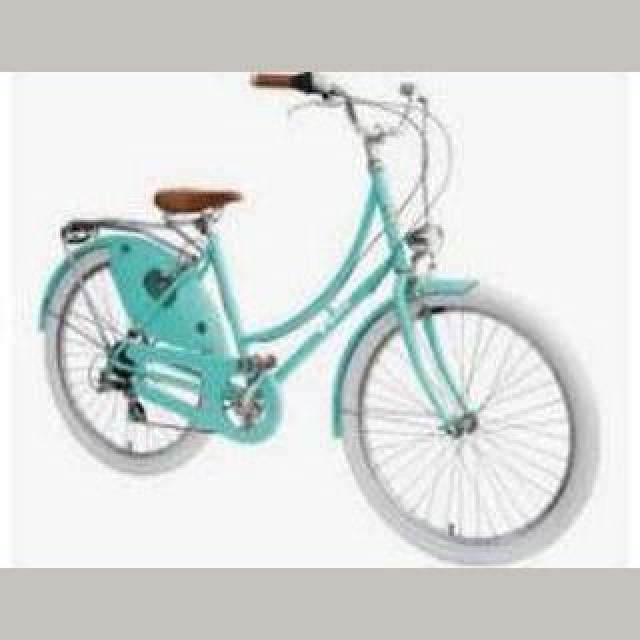Person: (33, 72, 601, 568)
